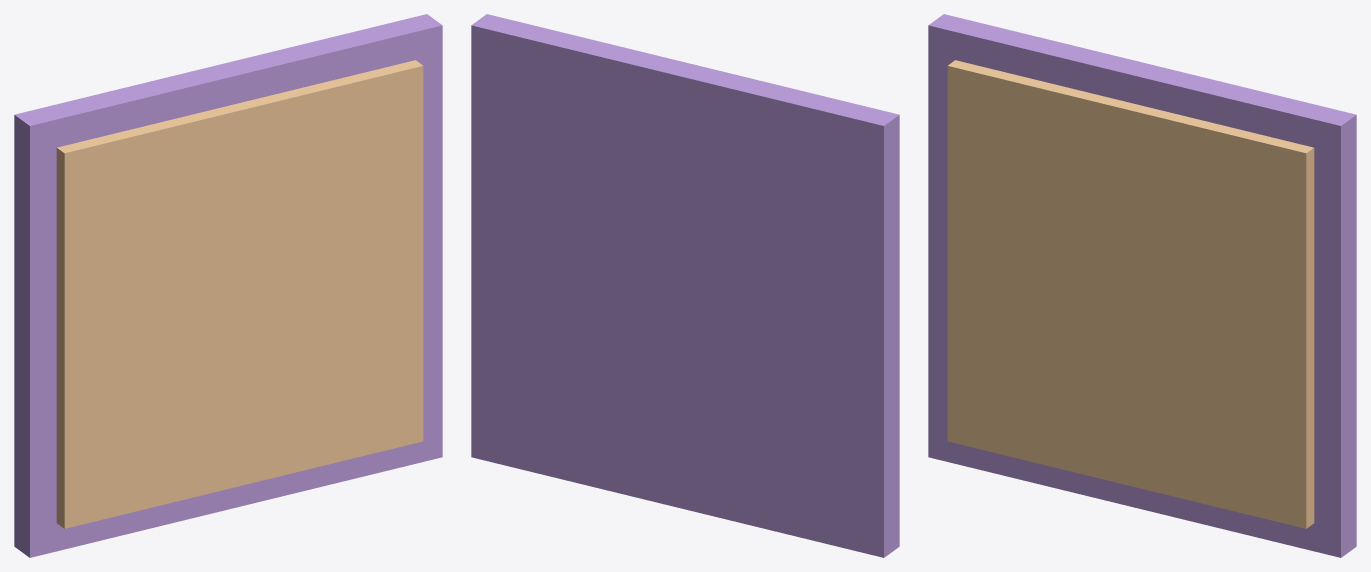
File: deco_quadro_01.glb
The picture shows the model from 3 angles, left to right: view 1: azimuth 30°, elevation 25°; view 2: azimuth 150°, elevation 25°; view 3: azimuth 330°, elevation 25°; orthographic projection.
Visible parts, largest first — view 1: deco_quadro_01; view 2: deco_quadro_01; view 3: deco_quadro_01.
Part boxes in pixels (x1=…): deco_quadro_01: x1=14, y1=14, x2=442, y2=557; deco_quadro_01: x1=471, y1=14, x2=899, y2=557; deco_quadro_01: x1=928, y1=14, x2=1356, y2=557.
Bounding box in the file's own units: 0.46 × 0.46 × 0.045.
